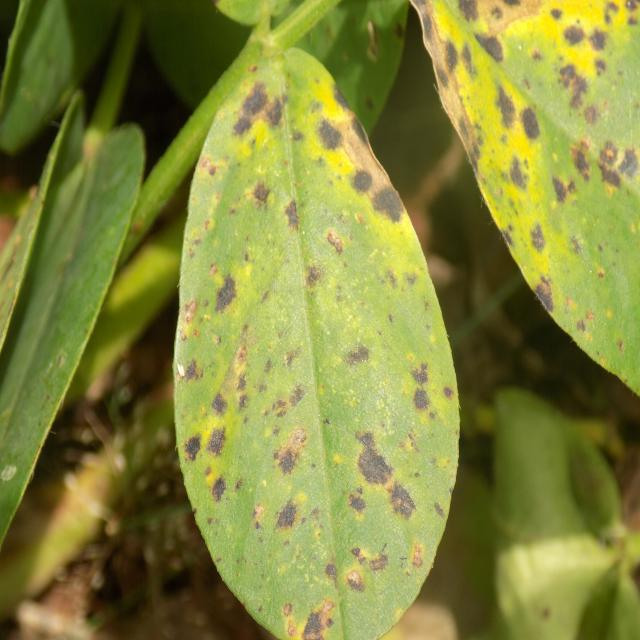Ground nut_tikka leaf spot: (178, 48, 459, 640)
